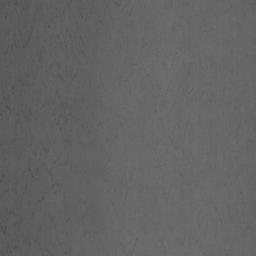Silk spot: (56, 112, 72, 131), (21, 26, 33, 48), (1, 96, 15, 114), (28, 163, 39, 180), (4, 40, 17, 54), (53, 157, 69, 166), (37, 50, 43, 62)
